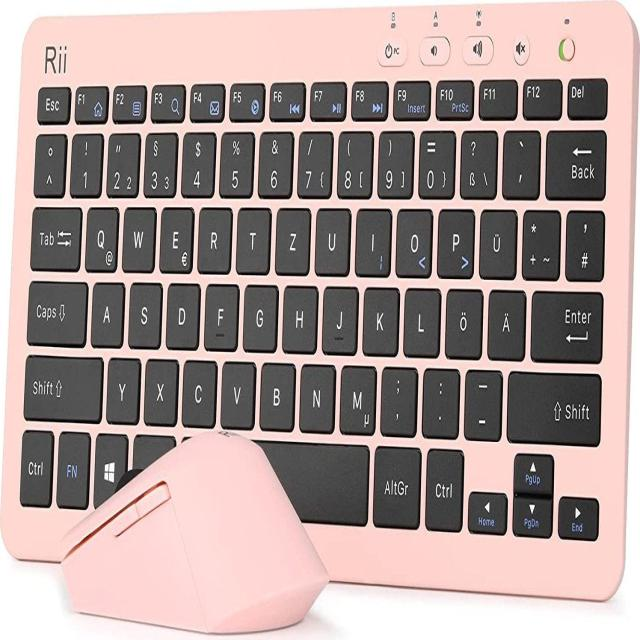0: (416, 125, 455, 198)
1: (68, 128, 102, 195)
2: (104, 126, 139, 195)
3: (142, 126, 177, 195)
4: (180, 126, 215, 196)
5: (218, 126, 254, 196)
6: (257, 125, 294, 196)
7: (296, 126, 333, 197)
8: (335, 126, 372, 197)
9: (375, 126, 413, 197)
a: (89, 278, 123, 345)
accent: (501, 124, 540, 197)
ae: (485, 285, 525, 358)
altgr-right: (371, 441, 420, 527)
b: (257, 358, 295, 428)
c: (180, 355, 216, 425)
caret: (33, 129, 65, 195)
comma: (378, 360, 416, 432)
d: (164, 278, 199, 348)
del: (543, 124, 607, 198)
e: (158, 201, 193, 271)
enter: (529, 286, 604, 361)
f: (203, 279, 238, 349)
g: (241, 279, 277, 350)
h: (281, 280, 317, 351)
hash: (564, 205, 605, 279)
i: (353, 202, 391, 273)
j: (320, 281, 357, 352)
k: (361, 281, 398, 354)
keyboard: (2, 1, 637, 607)
l: (402, 283, 440, 355)
m: (337, 359, 375, 432)
minus: (462, 364, 501, 438)
n: (298, 359, 335, 431)
o: (394, 204, 432, 275)
oe: (443, 285, 482, 357)
p: (436, 204, 474, 276)
plus: (520, 204, 560, 277)
point: (421, 362, 459, 434)
q: (83, 201, 118, 270)
r: (196, 201, 231, 271)
s: (126, 278, 161, 346)
shift-left: (22, 349, 103, 419)
shift-lock: (25, 276, 87, 344)
shift-right: (506, 366, 602, 443)
space: (255, 435, 369, 522)
ss: (457, 125, 497, 198)
strg-left: (18, 424, 53, 505)
strg-right: (424, 443, 464, 529)
t: (235, 201, 270, 271)
tab: (29, 200, 82, 268)
u: (313, 202, 350, 273)
ue: (477, 204, 516, 277)
v: (219, 356, 256, 426)
w: (121, 201, 155, 269)
x: (142, 353, 178, 423)
y: (104, 353, 139, 421)
z: (273, 202, 310, 273)
